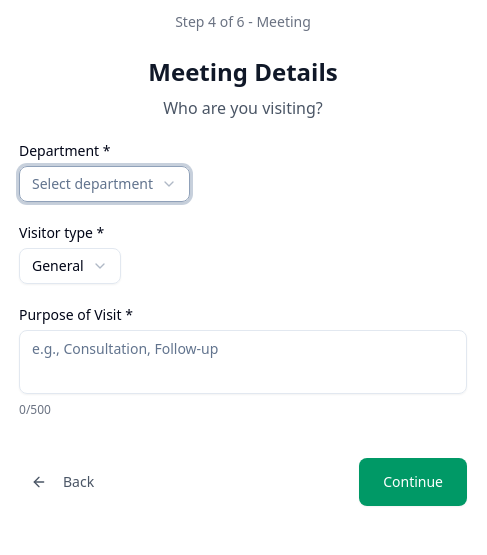
it: MeetingDetailsStep › Department Selection › should show validation error when department is not selected
This screenshot has width=487, height=555.
Click the button "Continue" at {"x": 413, "y": 482}, box x1=359 y1=458 x2=467 y2=506
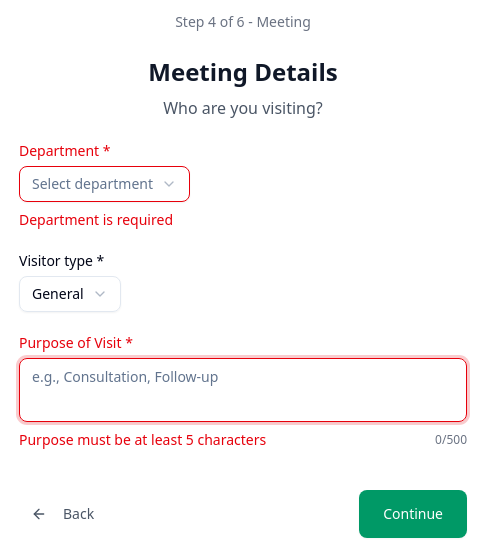
Result: the text "Department is required" is shown at x1=19 y1=210 x2=173 y2=229
